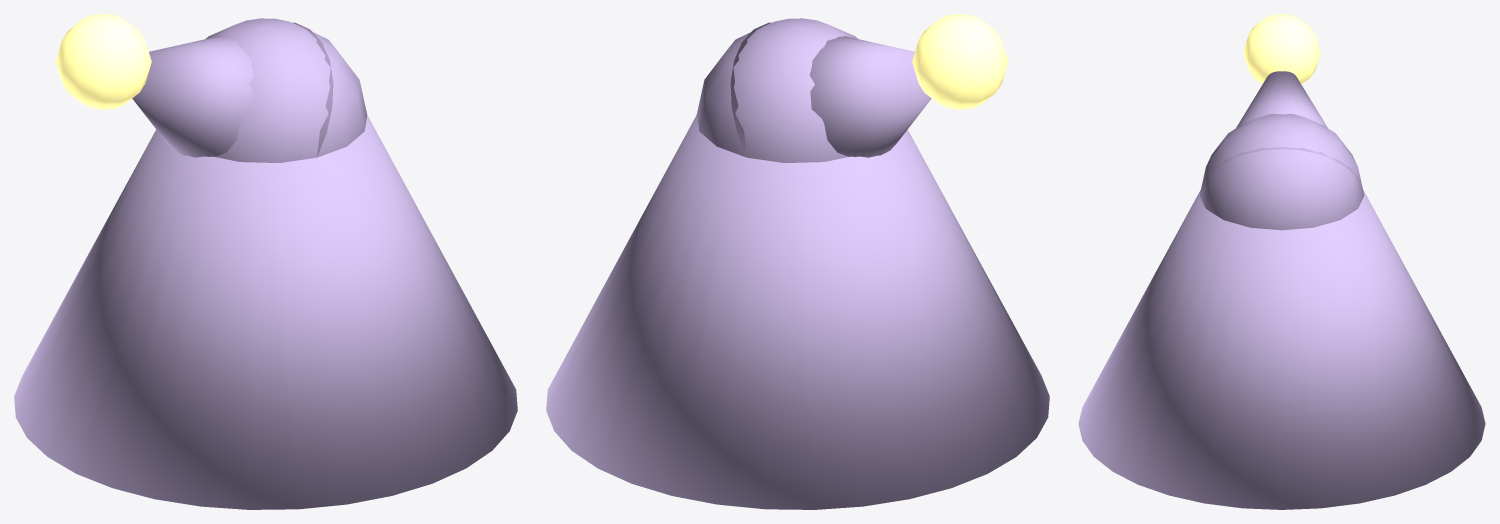
File: wizard_cap.glb
3 renders of one model, left to right at view 1: azimuth 30°, elevation 25°; view 2: azimuth 150°, elevation 25°; view 3: azimuth 270°, elevation 25°, orthographic. The views are drawn at different scales.
Visible parts, largest first — view 1: wizard_cap; view 2: wizard_cap; view 3: wizard_cap.
Part boxes in pixels (bbox=[...]): wizard_cap: bbox=[14, 14, 517, 509]; wizard_cap: bbox=[546, 14, 1049, 509]; wizard_cap: bbox=[1078, 14, 1485, 509].
Size of the model in its own units: 0.42 by 0.39 by 0.42.
